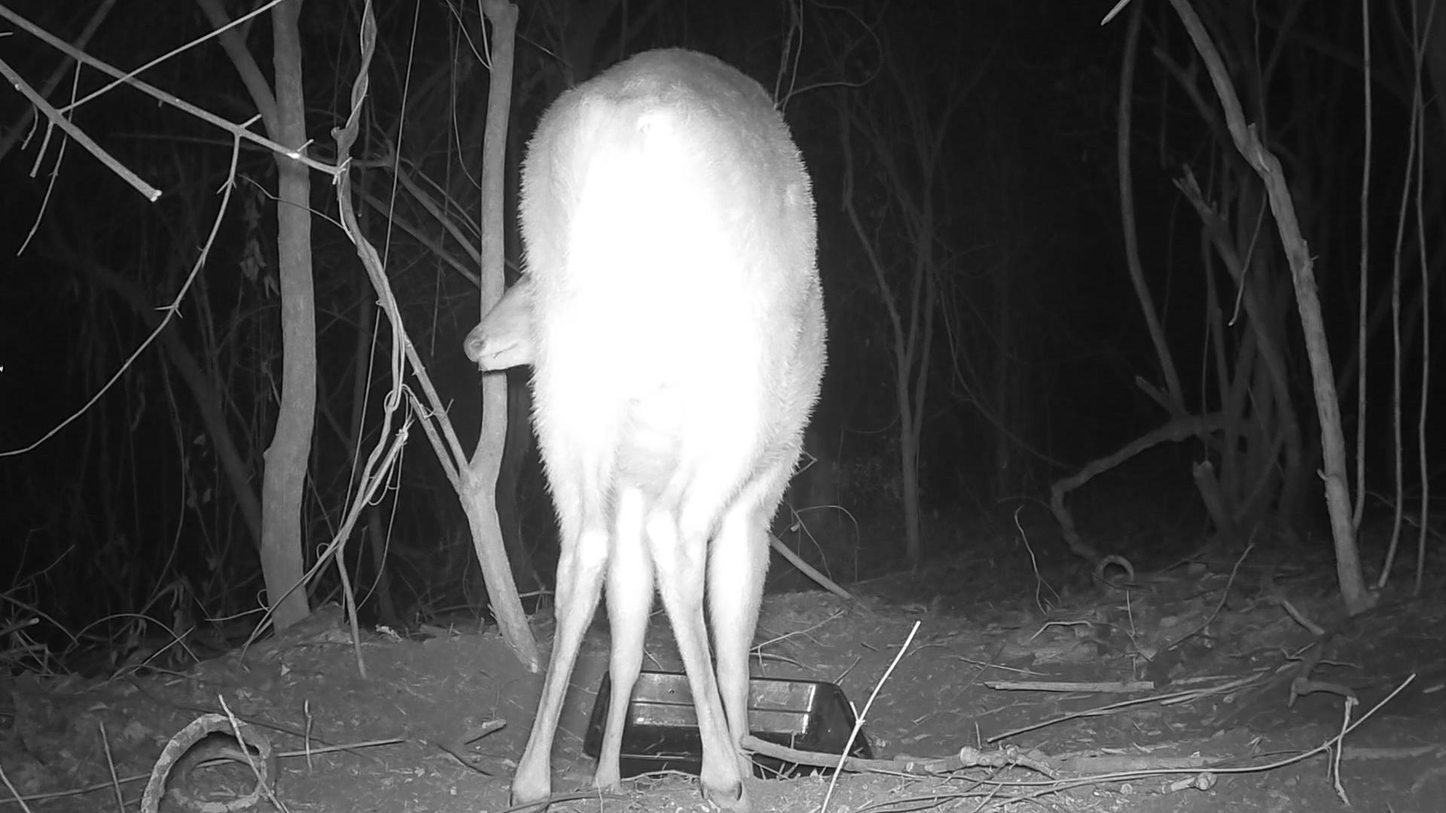ONCA_PARDA: (458, 30, 849, 813)
